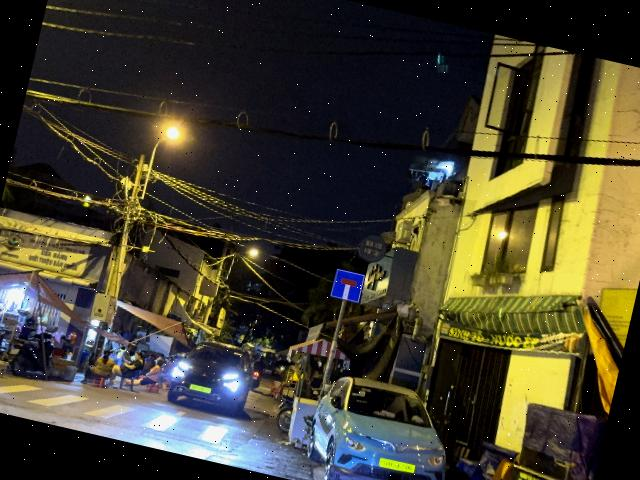duong-cut: (330, 268, 364, 303)
